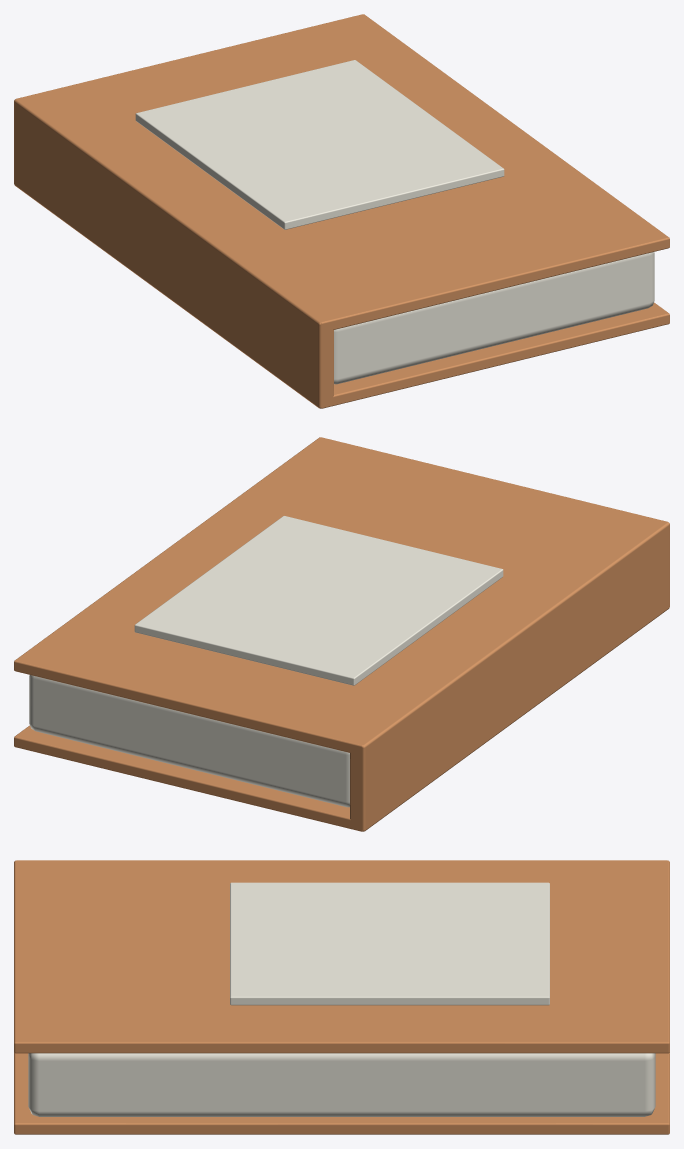
File: public-library-and-reading-garden-public-library-and-r-b1810040__30933.glb
The picture shows the model from 3 angles, top to bottom: view 1: azimuth 30°, elevation 25°; view 2: azimuth 150°, elevation 25°; view 3: azimuth 270°, elevation 25°; orthographic projection. The views are drawn at different scales.
Parts seen in each view (by area): view 1: public-library-and-reading-garden-paperback-volume; view 2: public-library-and-reading-garden-paperback-volume; view 3: public-library-and-reading-garden-paperback-volume.
Boxes of the visible parts, x1,y1,x2,y2 form: public-library-and-reading-garden-paperback-volume: (14,14,669,408); public-library-and-reading-garden-paperback-volume: (14,437,669,831); public-library-and-reading-garden-paperback-volume: (14,860,669,1134).
Bounding box in the file's own units: 0.1355 × 0.036 × 0.205.
